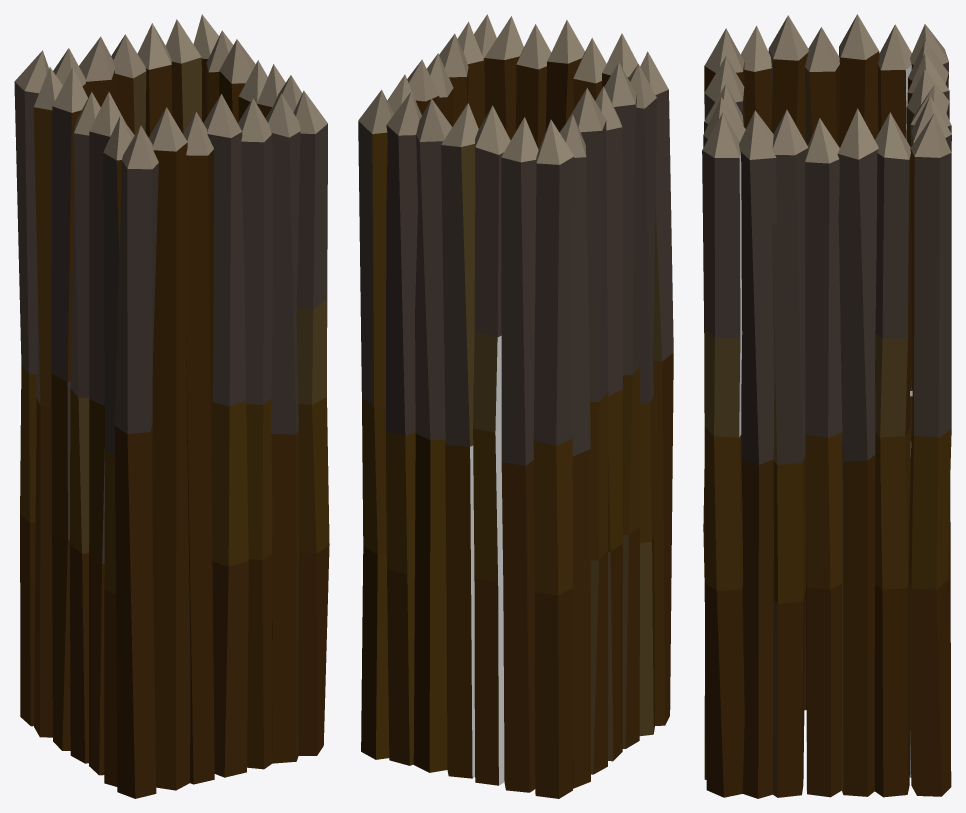
Rendered from vikingdefensetower.fbx.
The picture shows the model from 3 angles, left to right: view 1: azimuth 30°, elevation 25°; view 2: azimuth 150°, elevation 25°; view 3: azimuth 270°, elevation 25°; orthographic projection. The views are drawn at different scales.
Visible parts, largest first — view 1: tower-medieval_wood; view 2: tower-medieval_wood; view 3: tower-medieval_wood.
Part boxes in pixels (<box>): tower-medieval_wood: <box>14,14,329,798</box>; tower-medieval_wood: <box>358,14,673,798</box>; tower-medieval_wood: <box>702,14,951,798</box>.
Bounding box in the file's own units: 210 × 650 × 213.
